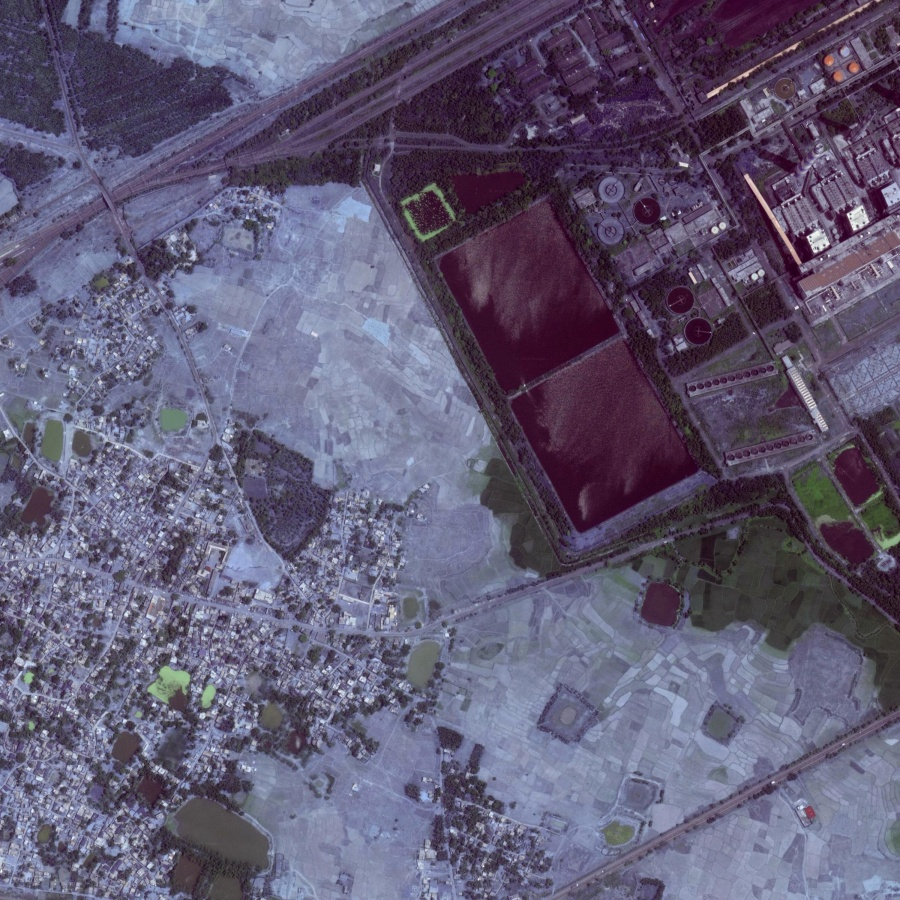PowerPlant: (410, 174, 772, 578)
